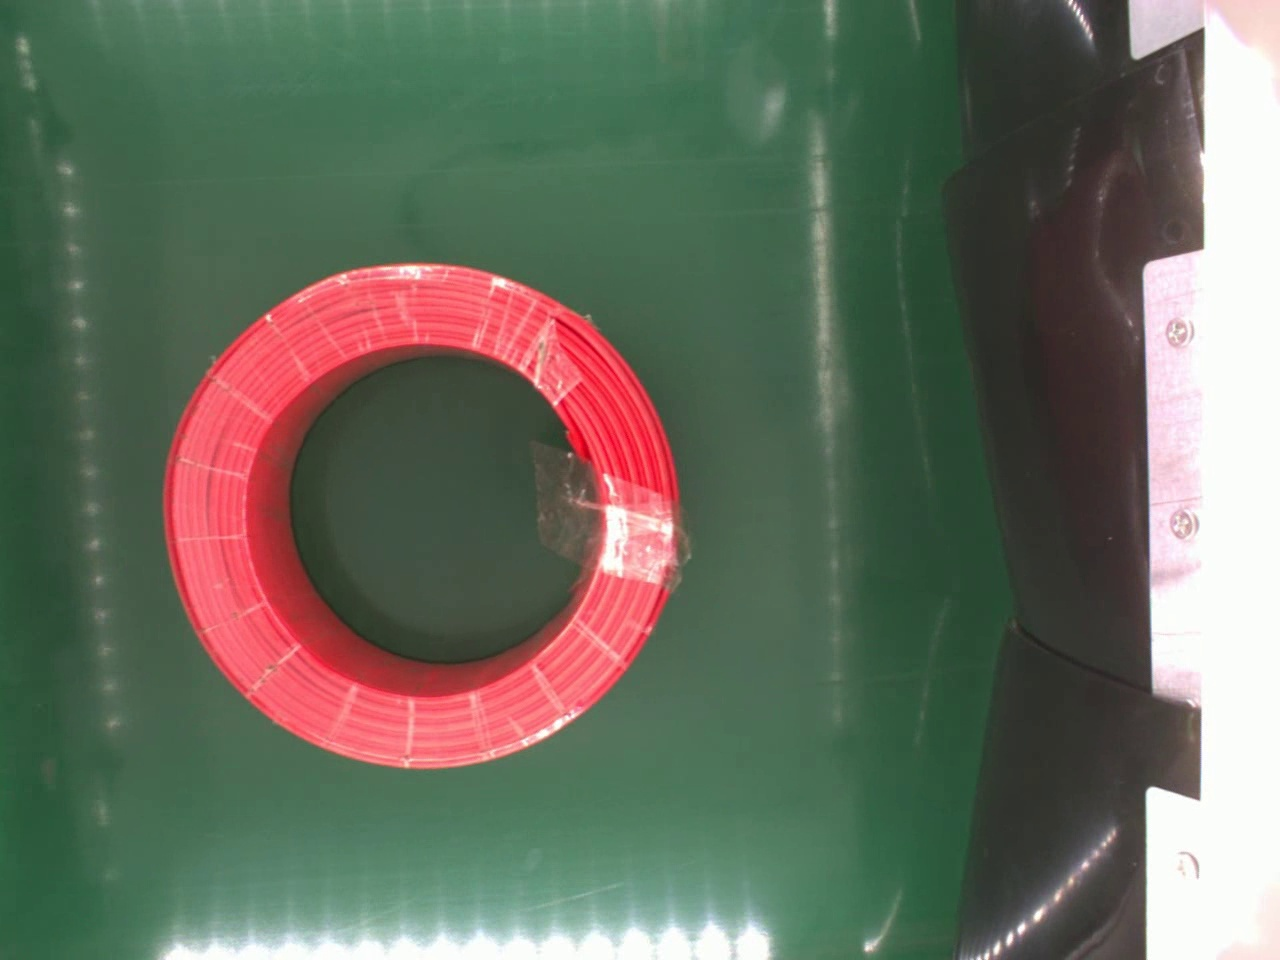red: (159, 259, 688, 774)
